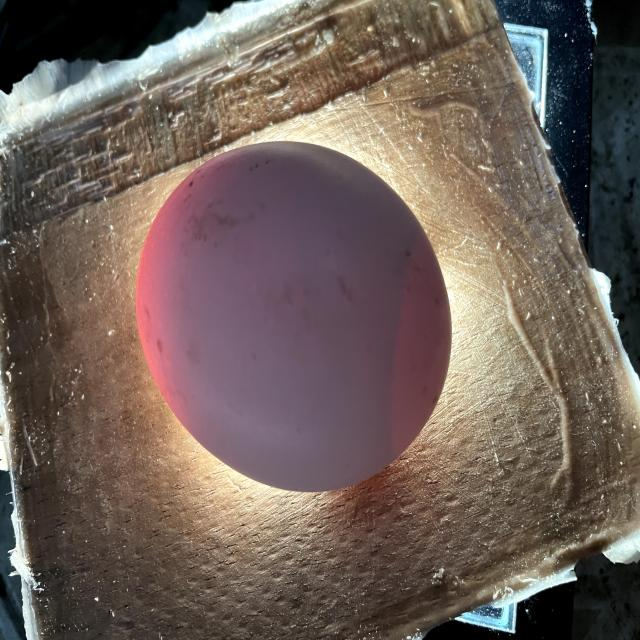fertile: (136, 142, 451, 492)
